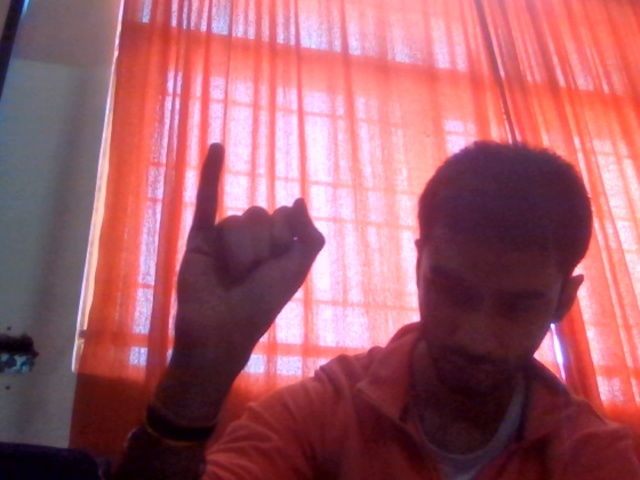I: (155, 127, 357, 394)
